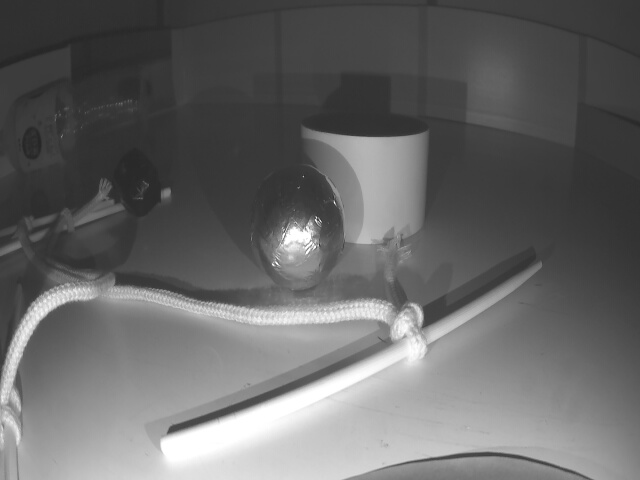Dead: (115, 154, 159, 214)
Live: (247, 166, 344, 296)
Point: (578, 100, 640, 184)
